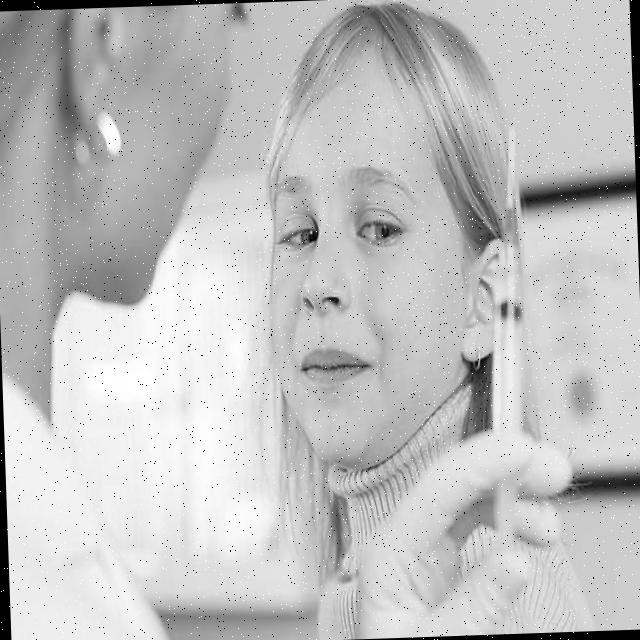Fear: (264, 49, 442, 465)
